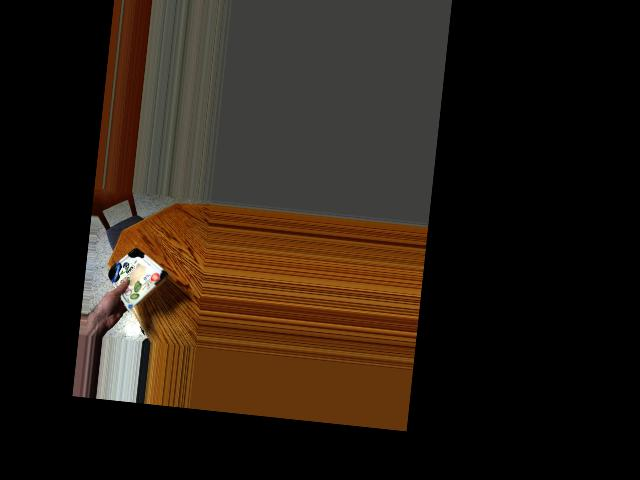cheese: (113, 247, 161, 307)
